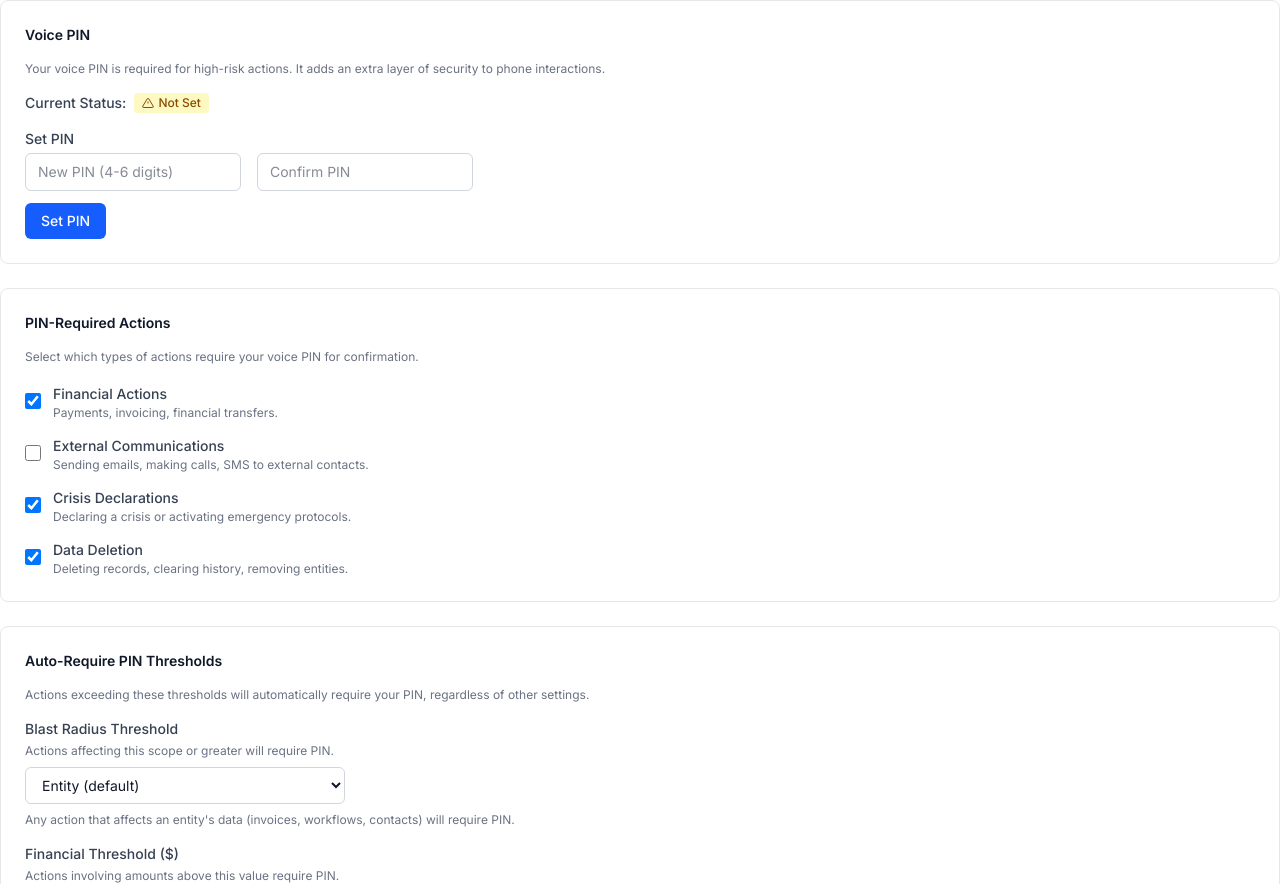
Test case: Safety Tab Enhancements › shows PIN strength indicator when typing PIN
The width and height of the screenshot is (1280, 884).
# Type a 4-digit PIN
In the password field with placeholder "New PIN (4-6 digits)": (133, 172) x1=25 y1=153 x2=241 y2=191, type "1234"
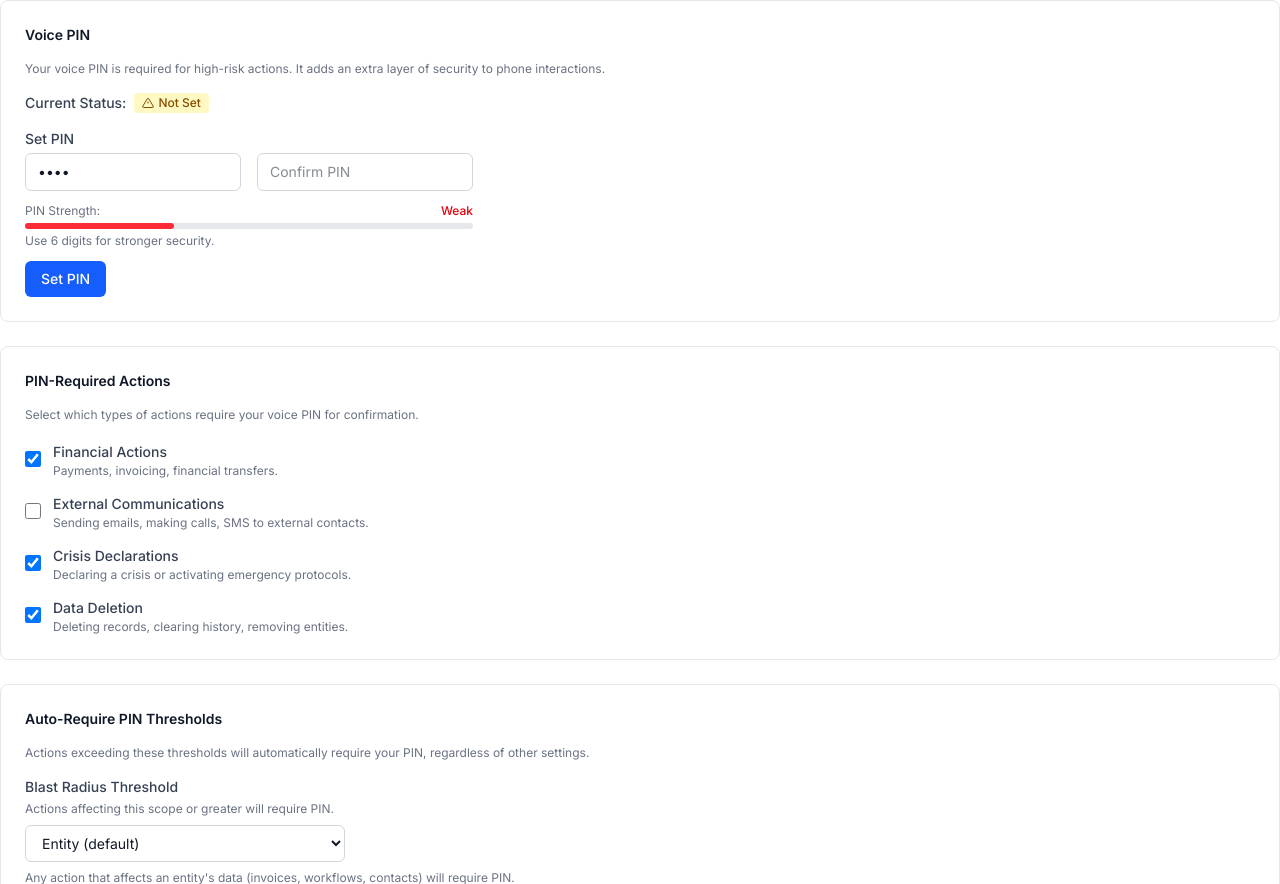
Now the text "PIN Strength:" is shown, box x1=25 y1=203 x2=100 y2=219
Now the text "Weak" is shown, box x1=441 y1=203 x2=473 y2=219
# Now type a 6-digit PIN for "Strong"
In the password field with placeholder "New PIN (4-6 digits)": (133, 172) x1=25 y1=153 x2=241 y2=191, type "123456"
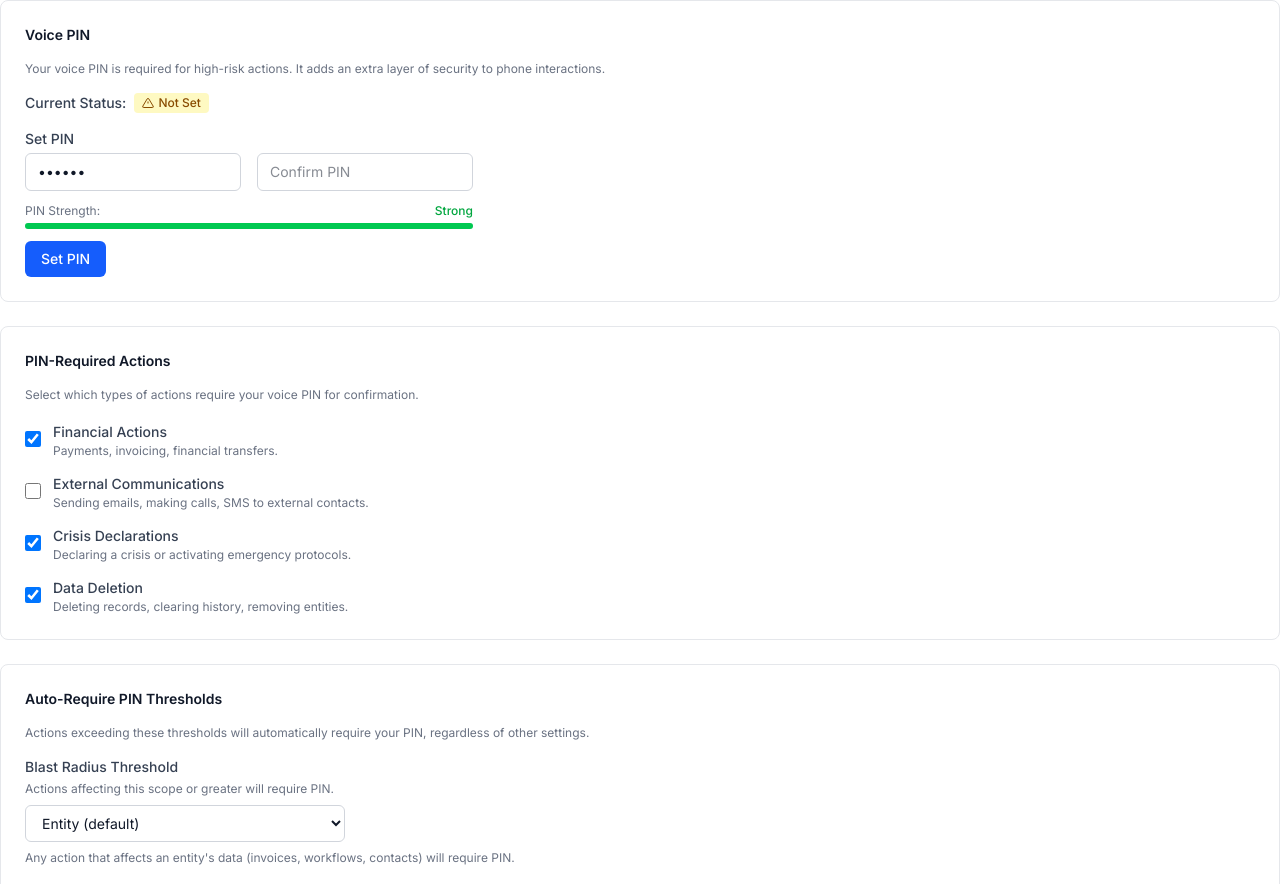
Now the text "Strong" is shown, box x1=435 y1=203 x2=473 y2=219
